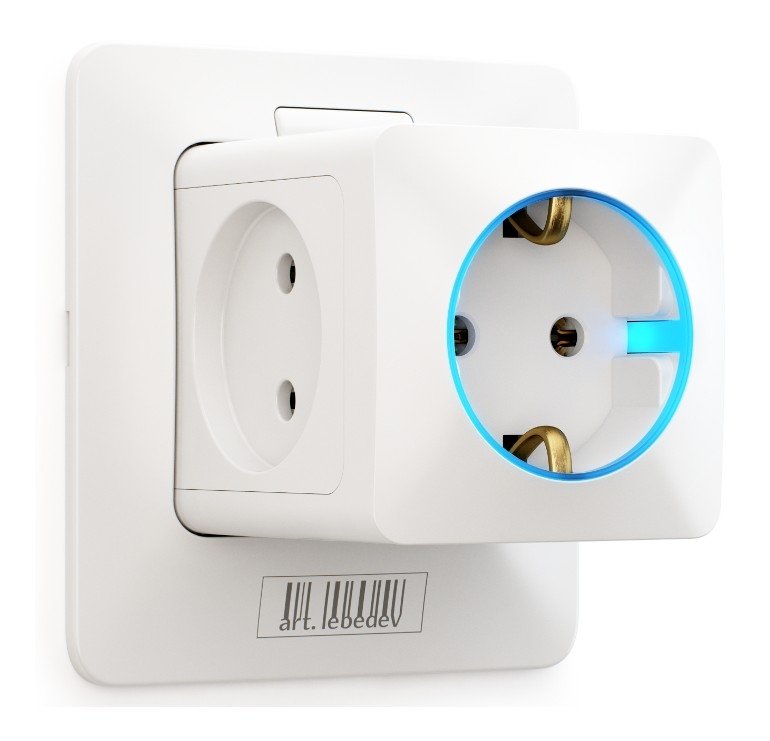raccoon: (448, 182, 691, 479), (189, 202, 325, 477)
